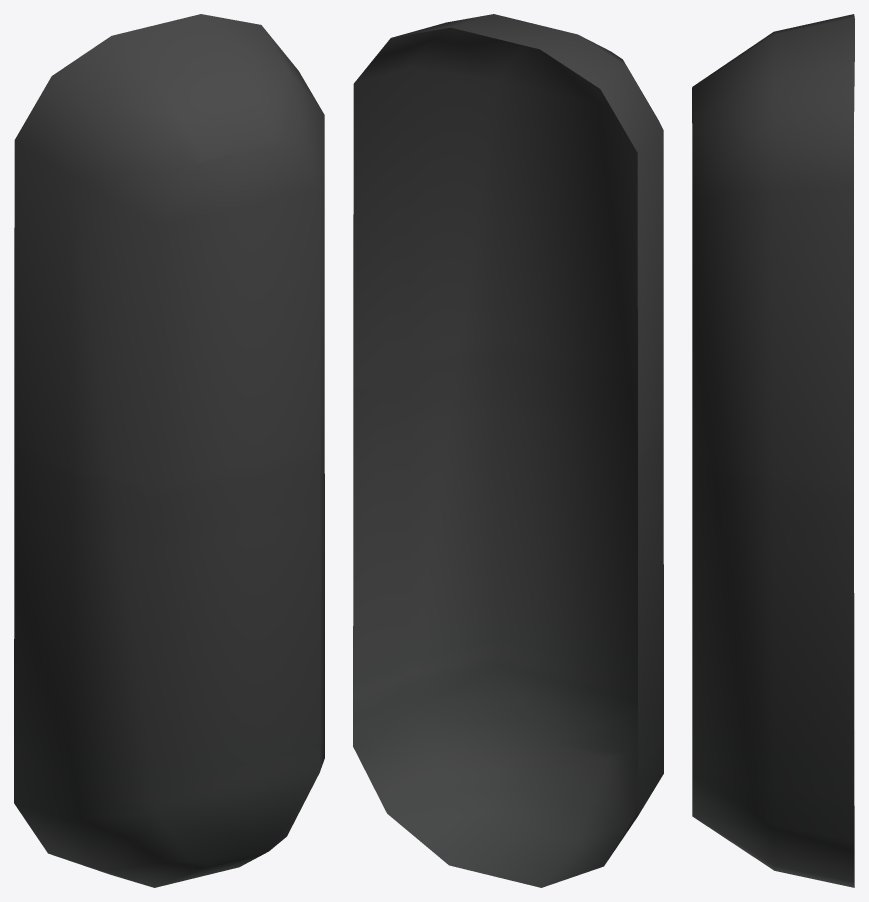
The model's file is Apex.fbx.
The picture shows the model from 3 angles, left to right: view 1: azimuth 30°, elevation 25°; view 2: azimuth 150°, elevation 25°; view 3: azimuth 270°, elevation 25°; orthographic projection.
Parts seen in each view (by area): view 1: Apex; view 2: Apex; view 3: Apex.
Part boxes in pixels (x1,y1,x2,y2): Apex: [14, 14, 324, 887]; Apex: [353, 14, 663, 887]; Apex: [692, 14, 854, 887].
Bounding box in the file's own units: 3.84 × 10.8 × 1.93.
1 material, 1 textured.
